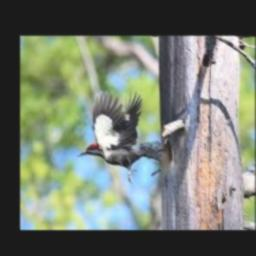Woodpecker: (76, 90, 166, 184)
